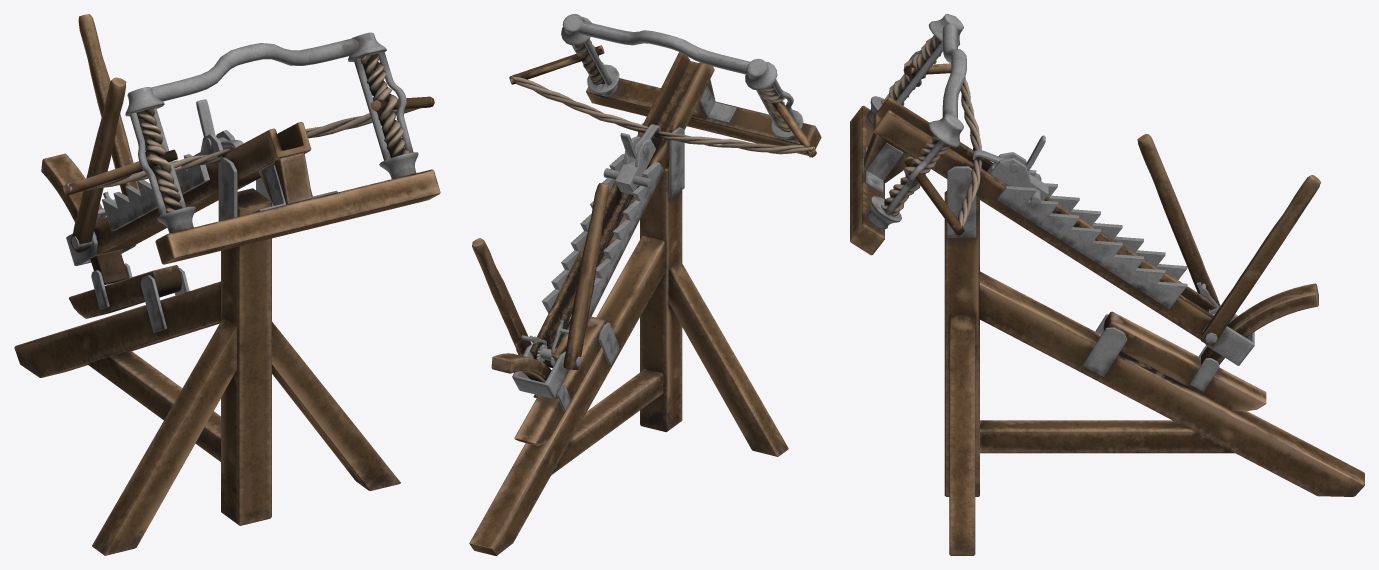
The model's file is roman_ballista.glb.
The picture shows the model from 3 angles, left to right: view 1: azimuth 30°, elevation 25°; view 2: azimuth 150°, elevation 25°; view 3: azimuth 270°, elevation 25°; orthographic projection. The views are drawn at different scales.
Parts seen in each view (by area): view 1: Ballista; view 2: Ballista; view 3: Ballista.
Part boxes in pixels (box(x1,y1,x2,y2)): Ballista: box(14, 14, 440, 555); Ballista: box(469, 14, 821, 555); Ballista: box(850, 14, 1364, 555).
Bounding box in the file's own units: 0.9715 × 1.18 × 1.27.
1 material, 1 textured.
